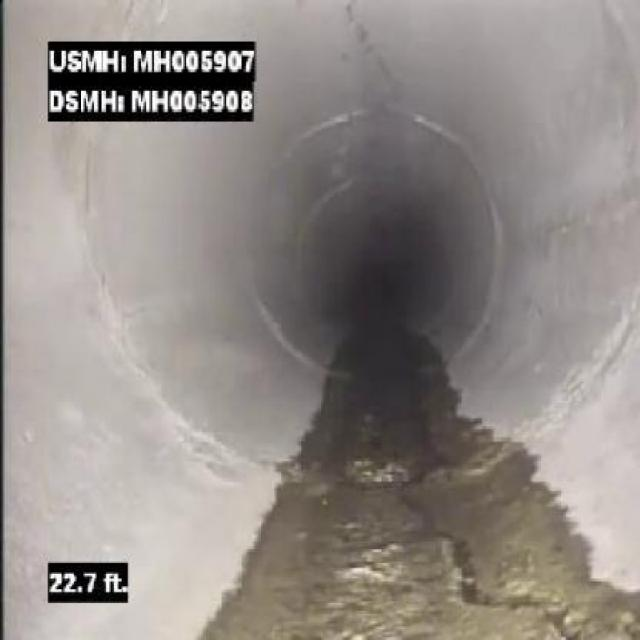Crack: (326, 3, 439, 105), (408, 492, 477, 590), (452, 591, 577, 638)
